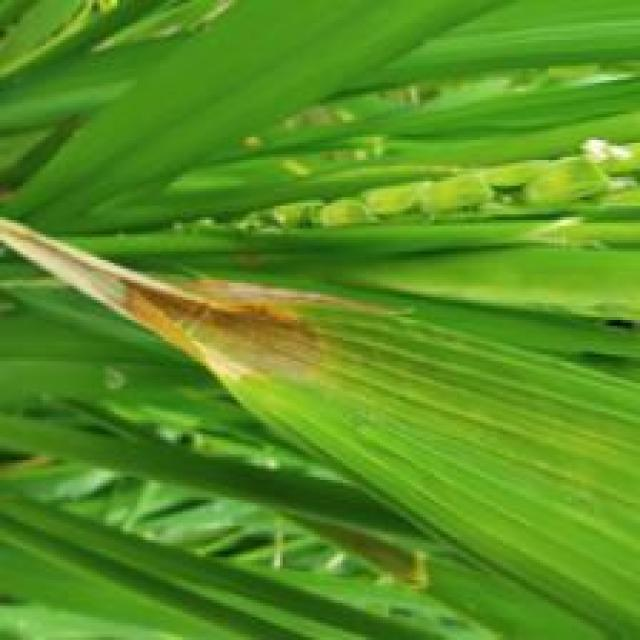Leaf_Scald: (6, 219, 389, 382)
